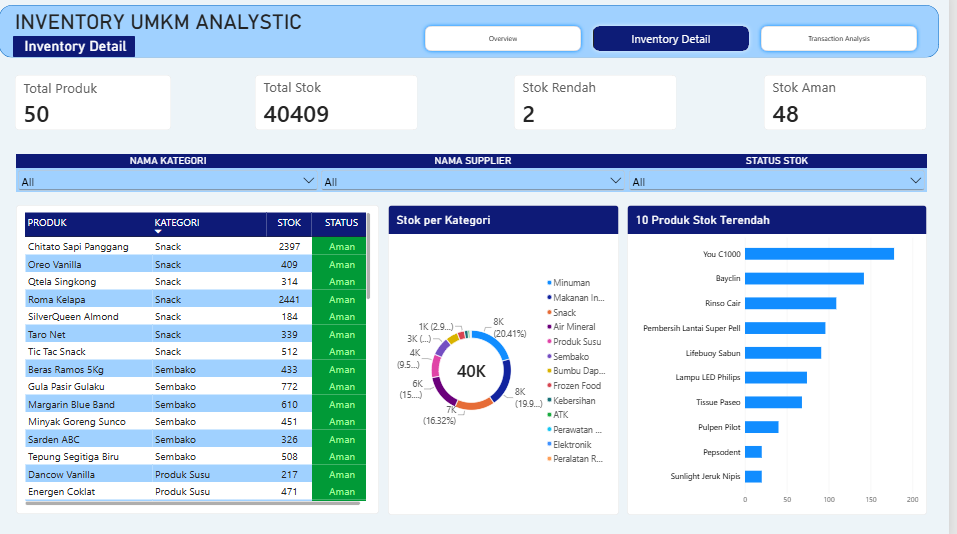

The page's visual inventory and layout, read from the dashboard file:
{"tool":"powerbi","page":{"name":"Inventory Detail","canvas":[1920,1080],"ordinal":3},"visuals":[{"type":"cardVisual","fields":{"Data":["barang.Jumlah Produk"]},"box":[52.5,157.5,312.5,110],"z":0},{"type":"cardVisual","fields":{"Data":["barang.Total Stok"]},"box":[531.7,158.7,325,110],"z":1000},{"type":"cardVisual","fields":{"Data":["barang.Jumlah Produk Stok Rendah"]},"box":[1050.7,158.7,325,110],"z":2000},{"type":"cardVisual","fields":{"Data":["barang.Stok Aman"]},"box":[1549.6,158.7,325,110],"z":3000},{"type":"tableEx","fields":{"Values":["barang.nama_barang","kategori.nama_kategori","Sum(barang.stok)","detail_transaksi.Status Stok Detail"]},"box":[54,418,726,618],"z":4000},{"type":"slicer","title":"NAMA KATEGORI","fields":{"Values":["kategori.nama_kategori"]},"box":[54,316,608,76],"z":5000},{"type":"slicer","title":"STATUS STOK","fields":{"Values":["barang.Status Stok Slicer"]},"box":[1276,316,600,76],"z":6000},{"type":"slicer","title":"NAMA SUPPLIER","fields":{"Values":["supplier.nama_supplier"]},"box":[660,316,616,76],"z":7000},{"type":"donutChart","title":"Stok per Kategori","fields":{"Category":["kategori.nama_kategori"],"Y":["Sum(barang.stok)"]},"box":[798,418,462,620],"z":8000},{"type":"clusteredBarChart","title":"10 Produk Stok Terendah","fields":{"Category":["barang.nama_barang"],"Y":["barang.Stok Produk"]},"box":[1276,418,600,620],"z":9000},{"type":"shape","box":[20,17.5,1880,105],"z":10000},{"type":"textbox","title":"INVENTORY UMKM ANALYSTIC","box":[52.5,25,620,52.5],"z":11000},{"type":"textbox","title":"Inventory Detail","box":[48,80,244,42],"z":12000},{"type":"pageNavigator","box":[864,52,1000,66.2],"z":12001}]}

Visuals, with their boxes in screenshot pixels (x1, y1, x2, y2), scaled from the page's 1920x1080 canvas onto the 957x534 screenshot:
cardVisual - barang.Jumlah Produk: Rect(26, 78, 182, 132)
cardVisual - barang.Total Stok: Rect(265, 78, 427, 133)
cardVisual - barang.Jumlah Produk Stok Rendah: Rect(524, 78, 686, 133)
cardVisual - barang.Stok Aman: Rect(772, 78, 934, 133)
tableEx - barang.nama_barang x kategori.nama_kategori: Rect(27, 207, 389, 512)
"NAMA KATEGORI" slicer: Rect(27, 156, 330, 194)
"STATUS STOK" slicer: Rect(636, 156, 935, 194)
"NAMA SUPPLIER" slicer: Rect(329, 156, 636, 194)
"Stok per Kategori" donutChart: Rect(398, 207, 628, 513)
"10 Produk Stok Terendah" clusteredBarChart: Rect(636, 207, 935, 513)
shape: Rect(10, 9, 947, 61)
"INVENTORY UMKM ANALYSTIC" textbox: Rect(26, 12, 335, 38)
"Inventory Detail" textbox: Rect(24, 40, 146, 60)
pageNavigator: Rect(431, 26, 929, 58)
